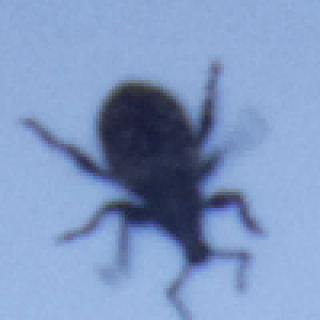bvw: (20, 59, 266, 320)
